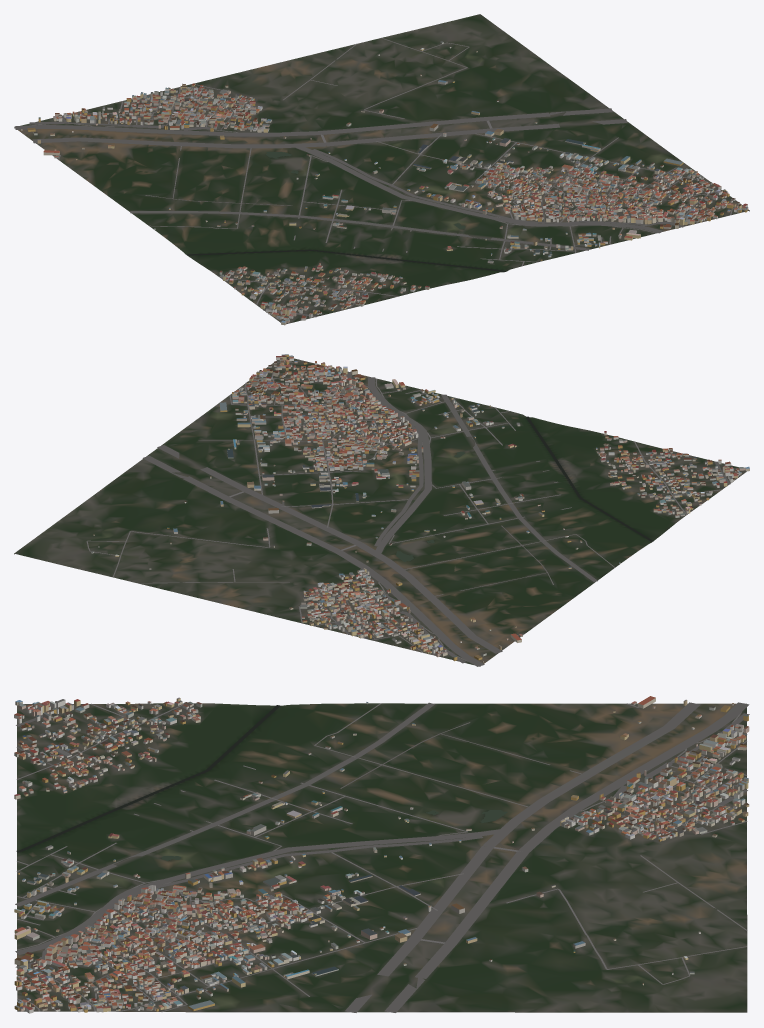
3 views of the same model, one above another, from view 1: azimuth 30°, elevation 25°; view 2: azimuth 150°, elevation 25°; view 3: azimuth 270°, elevation 25° (orthographic). The views are drawn at different scales.
Visible parts, largest first — view 1: ground, buildings, roads, water; view 2: ground, buildings, roads, water; view 3: ground, buildings, roads, water.
Boxes of the visible parts, bbox=[...] form: ground: bbox=[14, 14, 749, 324]; buildings: bbox=[21, 41, 748, 325]; roads: bbox=[14, 38, 741, 317]; water: bbox=[186, 151, 505, 271]; ground: bbox=[14, 357, 746, 666]; buildings: bbox=[91, 354, 749, 662]; roads: bbox=[86, 360, 730, 666]; water: bbox=[396, 416, 653, 561]; ground: bbox=[17, 703, 747, 1012]; buildings: bbox=[14, 696, 749, 1013]; roads: bbox=[15, 702, 749, 1012]; water: bbox=[16, 705, 507, 860].
Size of the model in its own units: 1427 by 25.03 by 1413.
